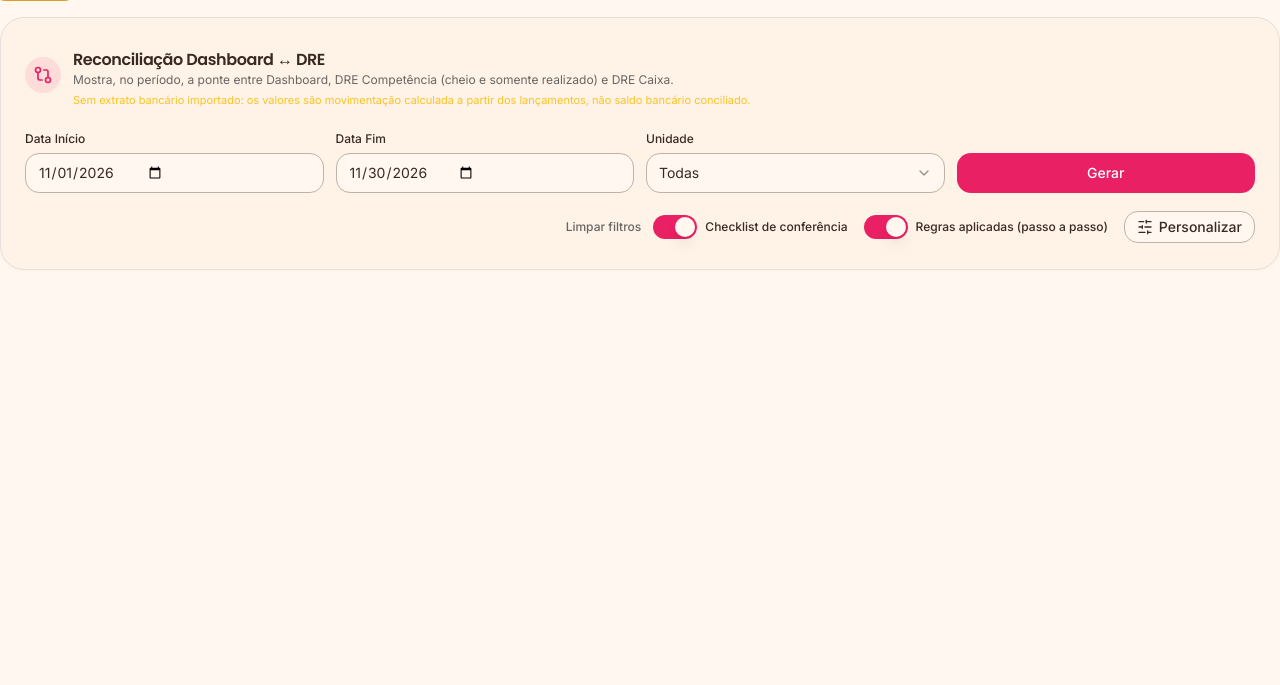
Test: relatório Reconciliação Dashboard ↔ DRE › Gerar chama o hook com o período e depois mostra os blocos do relatório
The width and height of the screenshot is (1280, 685).
Click the button "Gerar" at (1106, 172), box [956, 152, 1255, 192]
(page scrolled)
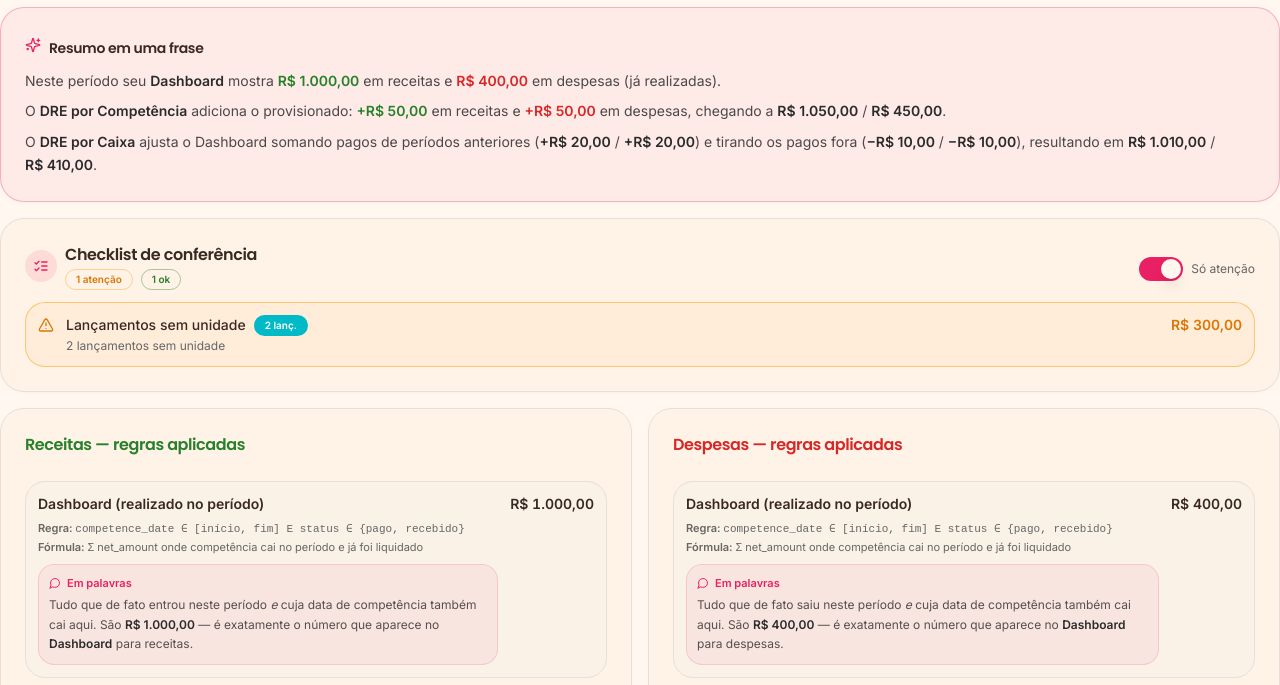
expect the text "Neste período seu" is shown: met, box [25, 72, 150, 88]
expect the text "Lançamentos sem unidade" is shown: met, box [66, 315, 246, 335]
